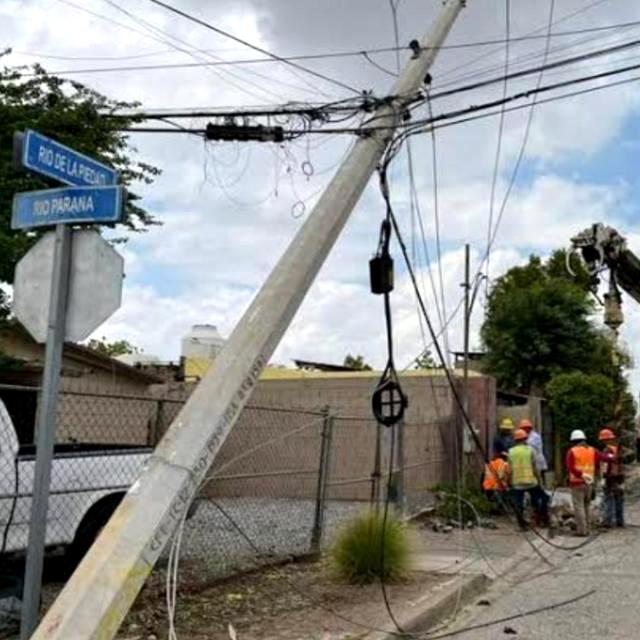Broken Pole: (31, 3, 472, 638)
